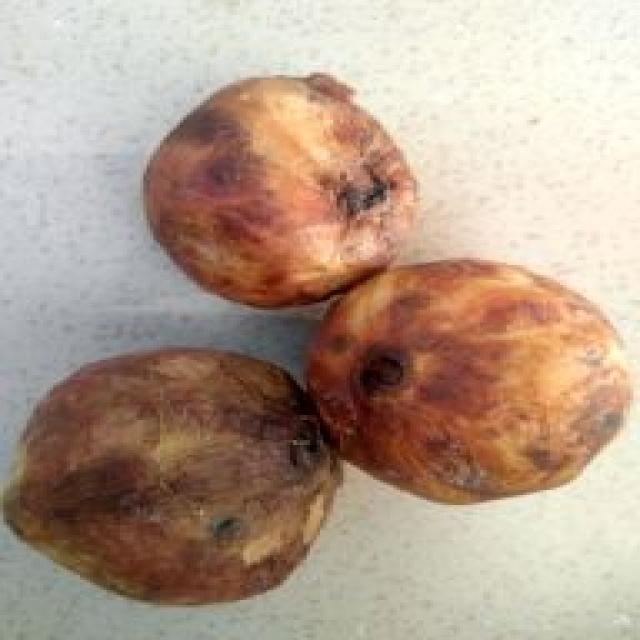Bad_Guava: (5, 348, 342, 603), (308, 260, 630, 503), (145, 74, 415, 307)
